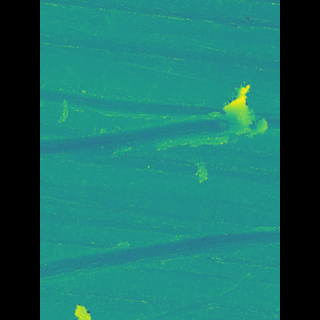Loch: (69, 228, 251, 296), (69, 84, 210, 161), (140, 265, 237, 320), (205, 76, 243, 154)
